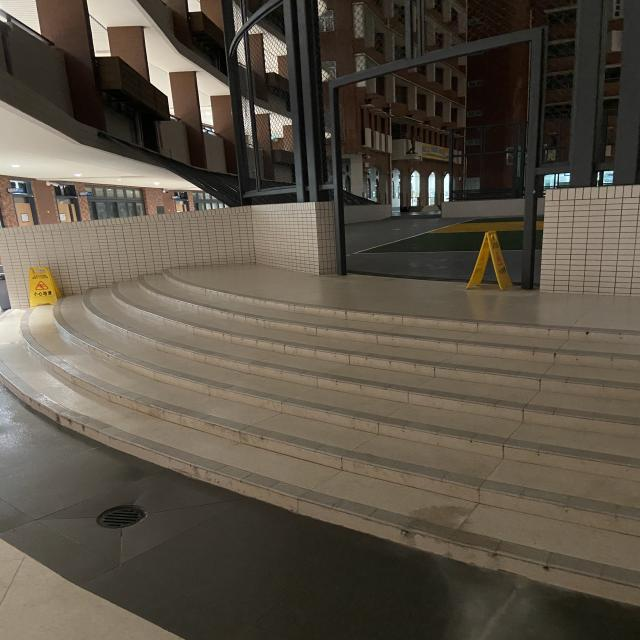Stairs: (0, 268, 640, 598)
